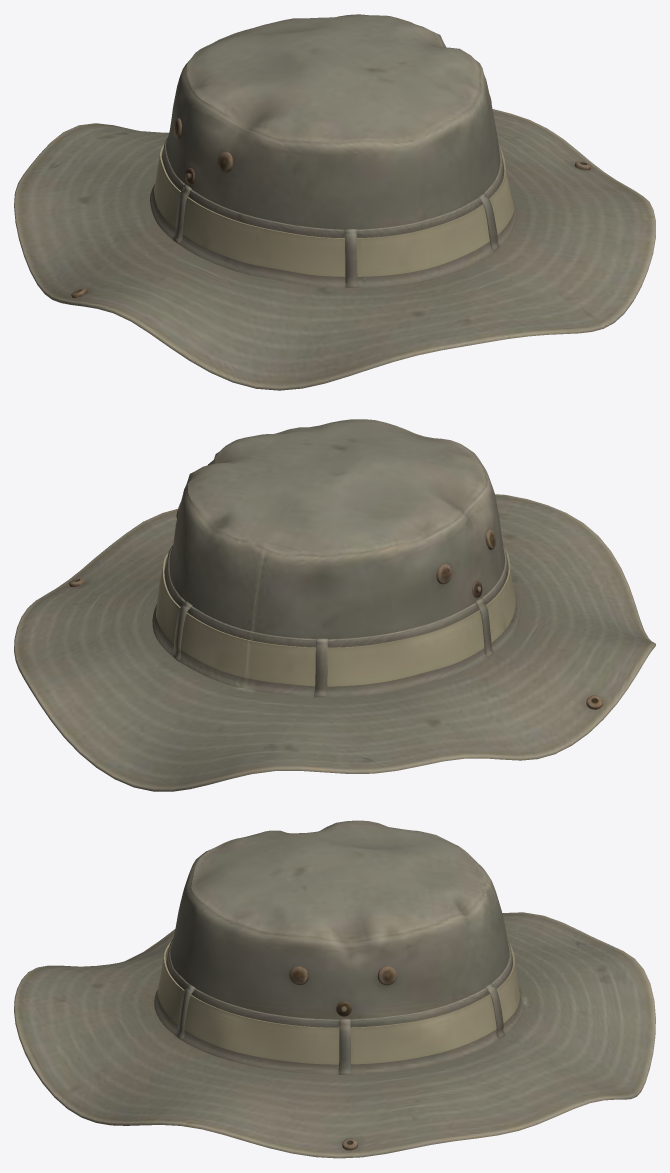
File: ph_fishermans_hat.glb
3 views of the same model, one above another, from view 1: azimuth 30°, elevation 25°; view 2: azimuth 150°, elevation 25°; view 3: azimuth 270°, elevation 25° (orthographic). The views are drawn at different scales.
Visible parts, largest first — view 1: fishermans_hat; view 2: fishermans_hat; view 3: fishermans_hat.
Boxes of the visible parts, x1,y1,x2,y2 form: fishermans_hat: (14,14,655,390); fishermans_hat: (14,419,655,791); fishermans_hat: (14,820,655,1158).
Size of the model in its own units: 0.3236 by 0.1239 by 0.35.
1 material, 1 textured.
